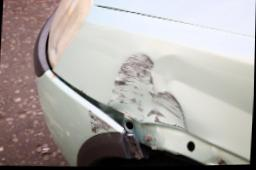Bumper: (57, 93, 143, 167)
Fender: (102, 32, 245, 166)
